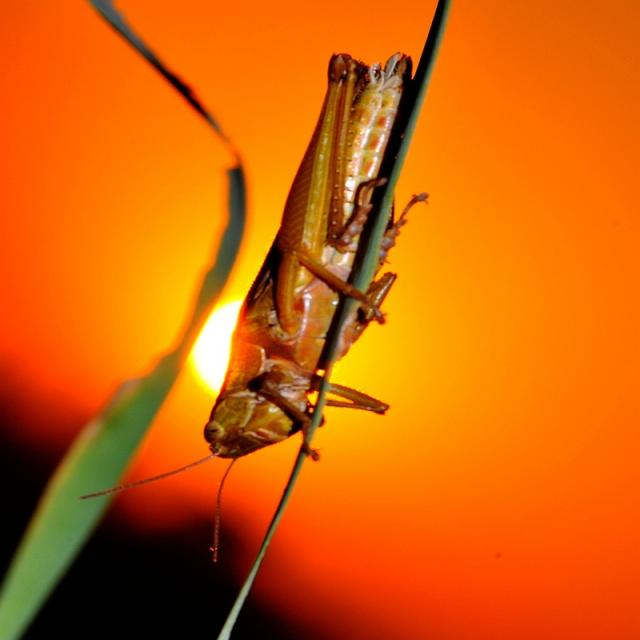ZhaMeng: (128, 11, 480, 506)
